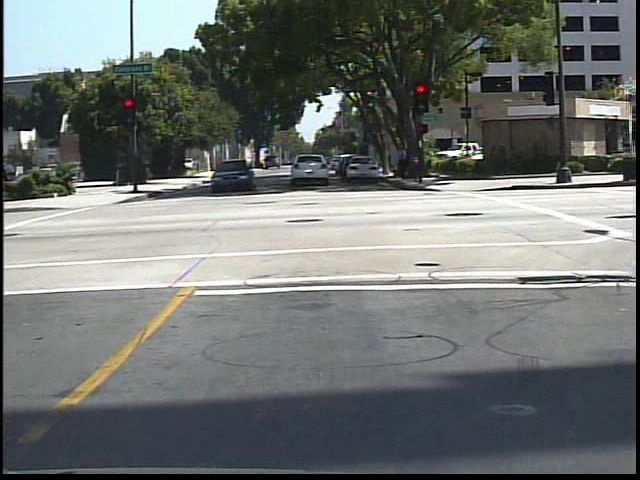person: (393, 140, 412, 183)
